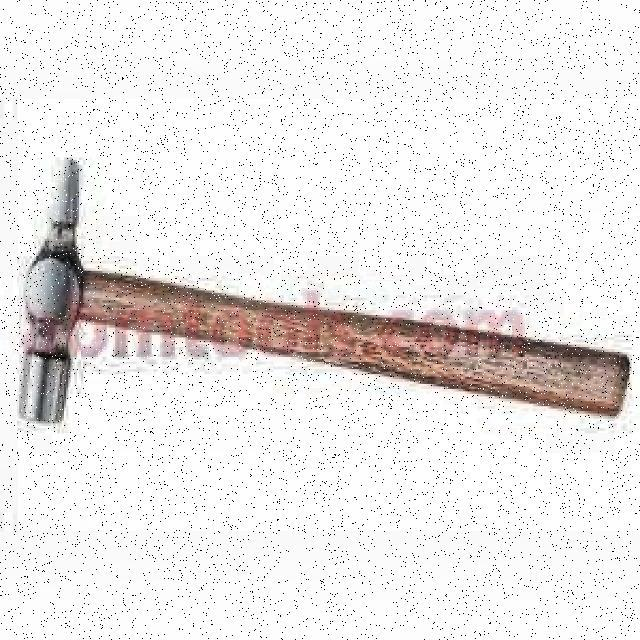hammer: (15, 152, 639, 430)
